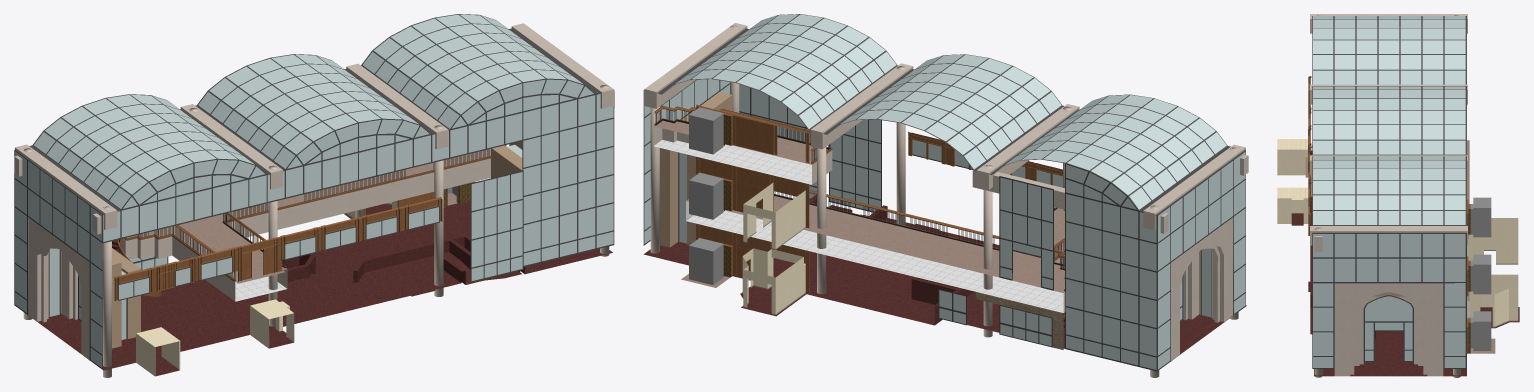
Rendered from Atrium.fbx.
3 views of the same model, side by side, from view 1: azimuth 30°, elevation 25°; view 2: azimuth 150°, elevation 25°; view 3: azimuth 270°, elevation 25° (orthographic). The views are drawn at different scales.
Parts seen in each view (by area): view 1: o_atrium_floor, o_atrium_glass_arches.008, o_atrium_glass_arches.001_glass, o_atrium_glass_arches.002_glass, o_atrium_glass_arches.000_glass, o_2_floor_balcony, o_atrium_glass_arches.018, o_atrium_glass_arches.009, o_atrium_glass_arches.017, o_atrium_glass_arches.000, o_atrium_windows_top, o_atrium_glass_arches.002 (+21 smaller); view 2: o_atrium_glass_arches.017, o_2_floor_balcony, o_atrium_glass_arches.002_glass, o_atrium_glass_arches.000_glass, o_atrium_glass_arches.001_glass, o_atrium_floor, o_atrium_glass_arches.008, o_atrium_glass_arches.007, o_3_floor_balcony, o_atrium_glass_arches.018, o_atrium_glass_arches.009, Plane.013 (+34 smaller); view 3: o_atrium_glass_arches.000_glass, o_atrium_glass_arches.002_glass, o_atrium_glass_arches.001_glass, o_atrium_glass_arches.018, Plane.016, o_atrium_glass_arches.008, o_atrium_floor, Plane.009, o_atrium_glass_arches.001, o_atrium_glass_arches.000, o_atrium_glass_arches.002, 0_curve_.011 (+15 smaller).
Boxes of the visible parts, bbox=[...] form: o_atrium_floor: bbox=[28, 202, 612, 376]; o_atrium_glass_arches.008: bbox=[15, 94, 613, 241]; o_atrium_glass_arches.001_glass: bbox=[363, 14, 593, 128]; o_atrium_glass_arches.002_glass: bbox=[34, 94, 265, 208]; o_atrium_glass_arches.000_glass: bbox=[198, 54, 429, 168]; o_2_floor_balcony: bbox=[119, 149, 490, 301]; o_atrium_glass_arches.018: bbox=[523, 119, 613, 265]; o_atrium_glass_arches.009: bbox=[471, 172, 522, 280]; o_atrium_glass_arches.017: bbox=[15, 179, 102, 367]; o_atrium_glass_arches.000: bbox=[180, 54, 449, 174]; o_atrium_windows_top: bbox=[14, 90, 614, 243]; o_atrium_glass_arches.002: bbox=[14, 94, 265, 214]; o_atrium_glass_arches.017: bbox=[1066, 180, 1245, 369]; o_2_floor_balcony: bbox=[686, 196, 1065, 349]; o_atrium_glass_arches.002_glass: bbox=[995, 95, 1226, 209]; o_atrium_glass_arches.000_glass: bbox=[830, 54, 1061, 169]; o_atrium_glass_arches.001_glass: bbox=[664, 14, 896, 128]; o_atrium_floor: bbox=[643, 194, 1246, 360]; o_atrium_glass_arches.008: bbox=[644, 90, 1245, 242]; o_atrium_glass_arches.007: bbox=[1000, 177, 1052, 289]; o_3_floor_balcony: bbox=[653, 120, 832, 184]; o_atrium_glass_arches.018: bbox=[644, 79, 816, 243]; o_atrium_glass_arches.009: bbox=[830, 119, 880, 211]; Plane.013: bbox=[1171, 218, 1232, 361]; o_atrium_glass_arches.000_glass: bbox=[1313, 86, 1465, 154]; o_atrium_glass_arches.002_glass: bbox=[1313, 16, 1465, 84]; o_atrium_glass_arches.001_glass: bbox=[1313, 156, 1465, 224]; o_atrium_glass_arches.018: bbox=[1313, 258, 1465, 367]; Plane.016: bbox=[1334, 283, 1443, 376]; o_atrium_glass_arches.008: bbox=[1313, 234, 1465, 257]; o_atrium_floor: bbox=[1291, 150, 1466, 376]; Plane.009: bbox=[1363, 295, 1413, 362]; o_atrium_glass_arches.001: bbox=[1312, 156, 1466, 233]; o_atrium_glass_arches.000: bbox=[1312, 86, 1466, 155]; o_atrium_glass_arches.002: bbox=[1312, 16, 1466, 84]; 0_curve_.011: bbox=[1469, 274, 1518, 327].
Bounding box in the file's own units: 3932 × 1423 × 1823.
